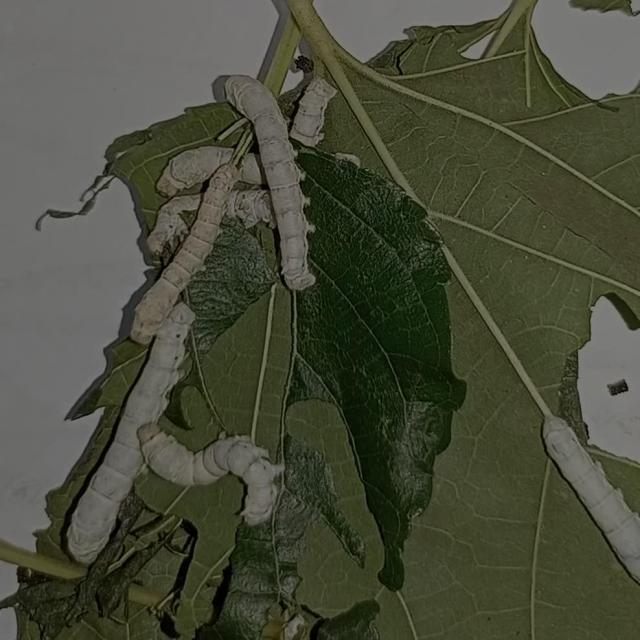Healthy: (49, 33, 437, 591)
